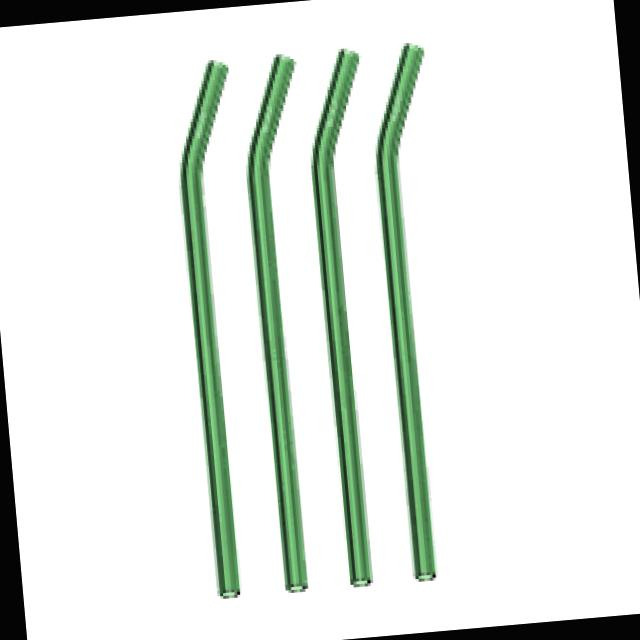plastic straw: (180, 61, 236, 595)
